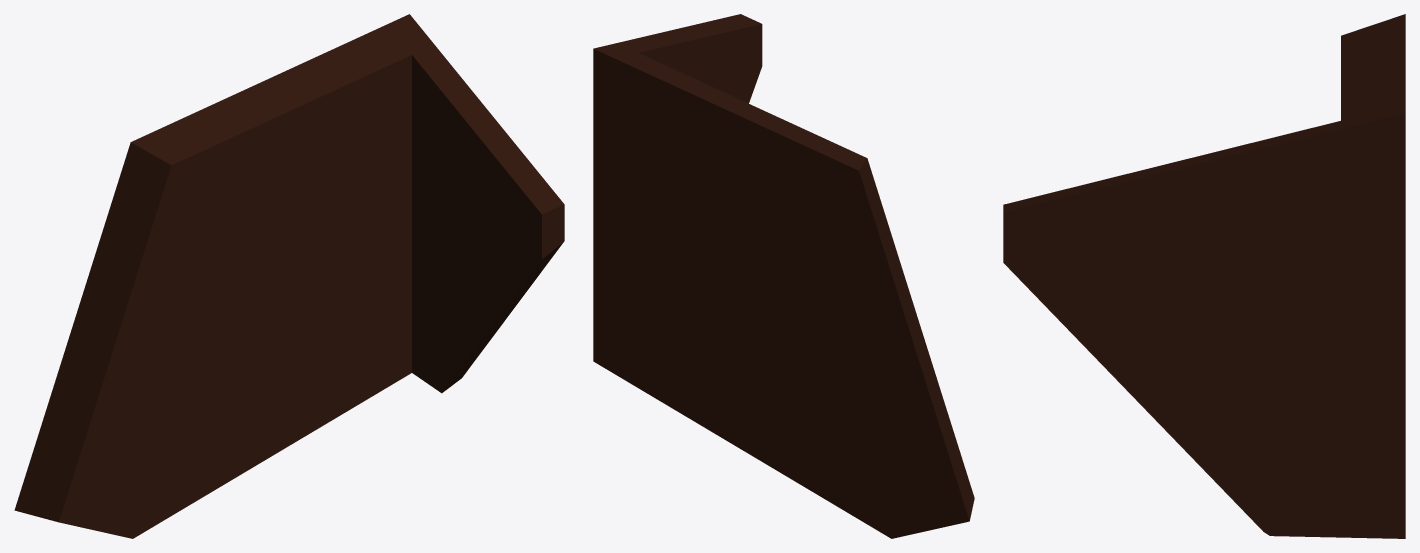
File: Placard_Part_2.fbx
3 renders of one model, left to right at view 1: azimuth 30°, elevation 25°; view 2: azimuth 150°, elevation 25°; view 3: azimuth 270°, elevation 25°, orthographic. The views are drawn at different scales.
Parts seen in each view (by area): view 1: Placard_Part_2; view 2: Placard_Part_2; view 3: Placard_Part_2.
Boxes of the visible parts, left/top/right/bottom form: Placard_Part_2: left=14, top=14, right=564, bottom=538; Placard_Part_2: left=593, top=14, right=974, bottom=538; Placard_Part_2: left=1003, top=14, right=1405, bottom=538.
Bounding box in the file's own units: 125 × 132 × 84.67.
